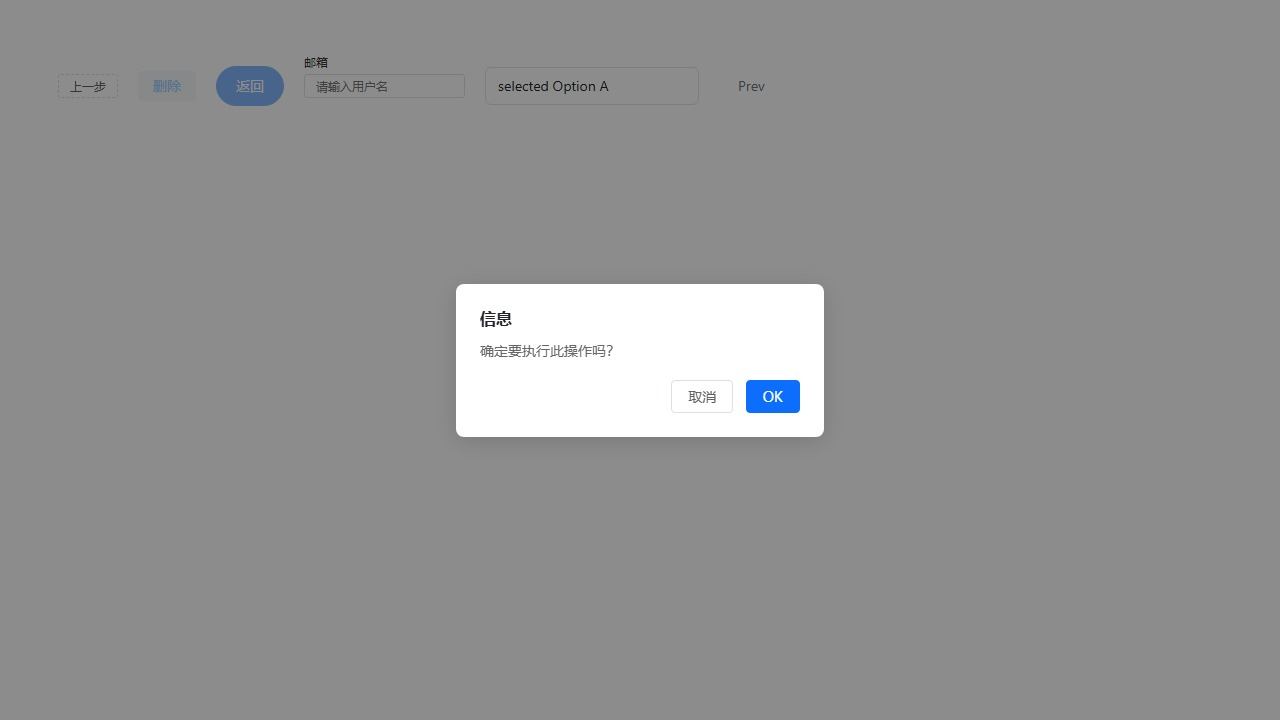button: (216, 66, 284, 106), (719, 67, 784, 105), (671, 380, 733, 412), (138, 71, 196, 101), (746, 380, 800, 412), (58, 74, 118, 98)
input: (304, 74, 465, 98)
modal: (0, 0, 1280, 720)
select: (485, 66, 699, 105)
